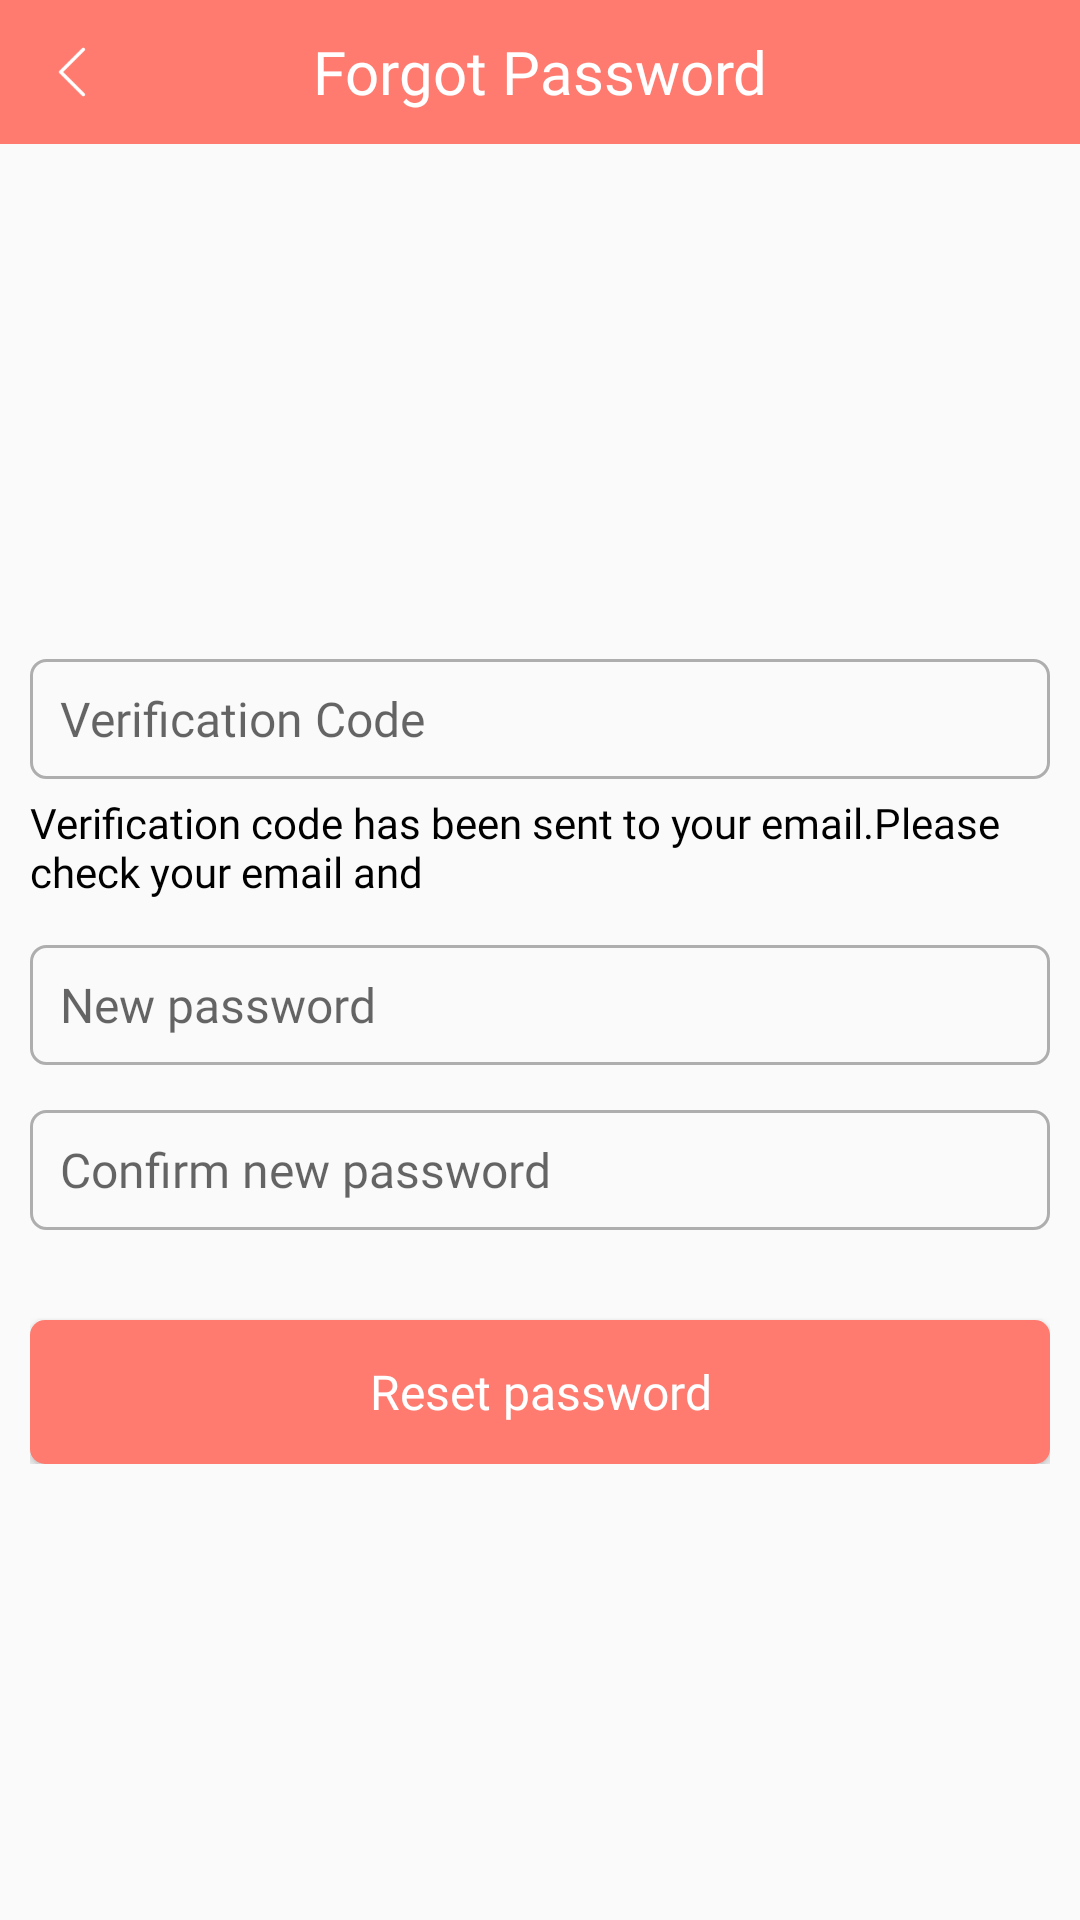

Icons on this 1080x1920 Android screen, each with its box as (x1, y1, x2, y2):
backwhite: (59, 47, 85, 97)
